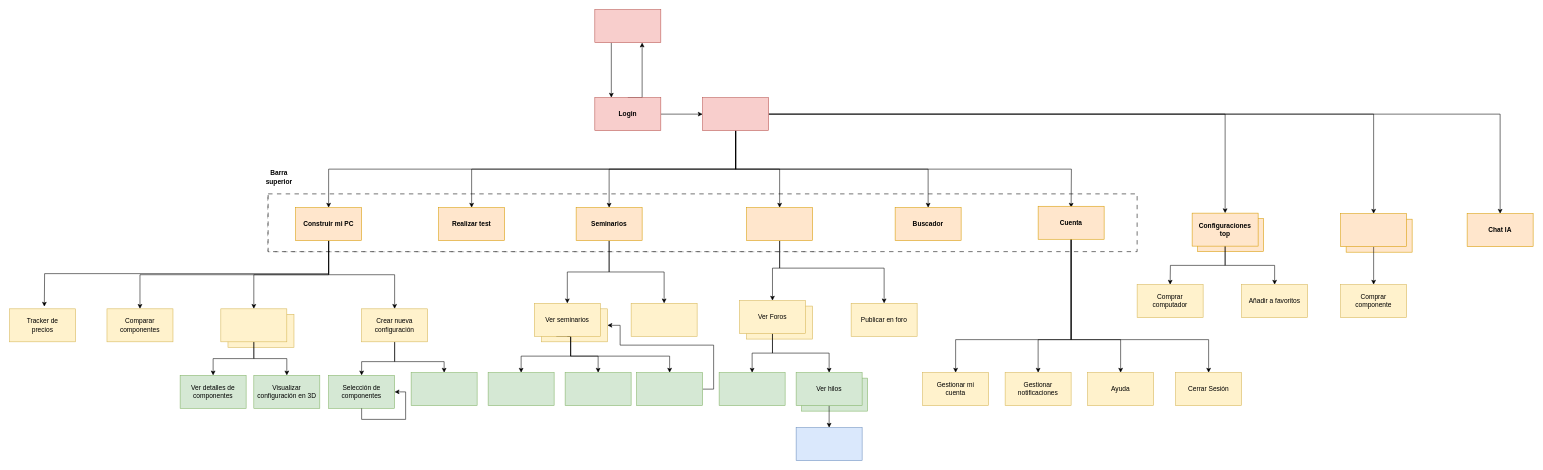
This 1543x470 diagram has some shape labels left out. Here are the shapes that lost their labels. From the top down, the centre of each, then its label:
At point (627, 26): "Registro".
At point (735, 114): "Home".
At point (779, 224): "Foros".
At point (1373, 230): "Componentes Novedosos".
At point (253, 325): "Ver mis PC".
At point (664, 319): "Publicar seminario".
At point (444, 389): "Visualizar configuración en tiempo real".
At point (521, 389): "Inscribirse al seminario".
At point (598, 389): "Ver detalles seminario".
At point (669, 389): "Filtrar por complejidad".
At point (752, 389): "Registro en el foro".
At point (829, 444): "Contribuir en el hilo".
